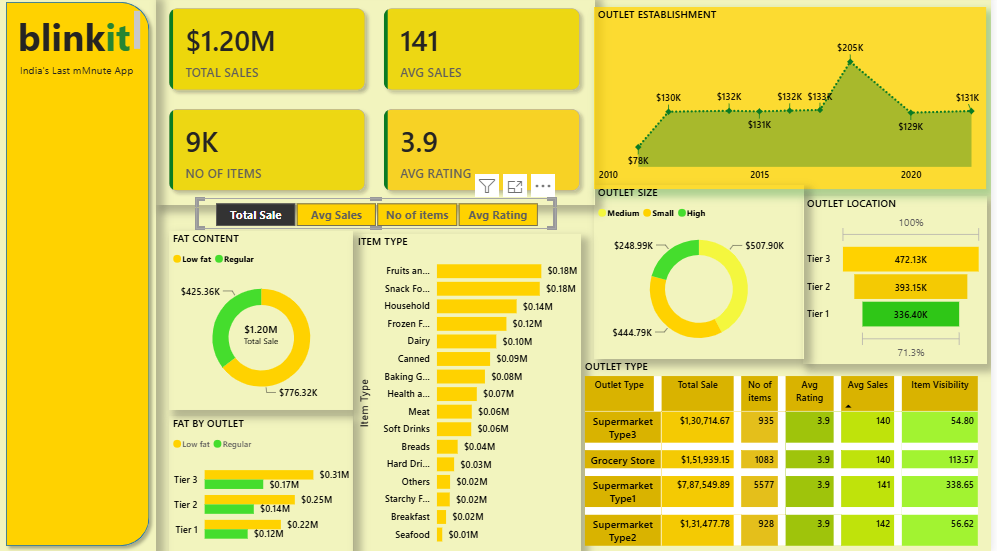

The page's visual inventory and layout, read from the dashboard file:
{"tool":"powerbi","page":{"name":"blinkit","canvas":[1280,720],"ordinal":0},"visuals":[{"type":"shape","box":[0,0,203,720],"z":0},{"type":"textbox","box":[11.5,82.1,177.1,28.8],"z":2000},{"type":"textbox","box":[14.4,15.8,172.8,66.2],"z":3000},{"type":"cardVisual","fields":{"Data":["BlinkIT Grocery Data.Total Sale","BlinkIT Grocery Data.Avg Sales","BlinkIT Grocery Data.No of items","BlinkIT Grocery Data.Avg Rating"]},"box":[203,0,565.9,270.7],"z":4000},{"type":"donutChart","title":" FAT CONTENT","fields":{"Y":["BlinkIT Grocery Data.Total Sale"],"Category":["BlinkIT Grocery Data.Item Fat Content"]},"box":[219.7,304.7,238.1,231],"z":6000},{"type":"slicer","fields":{"Values":["MATRICS.MATRICS"]},"box":[253.7,262.2,464.9,39.7],"z":7000},{"type":"cardVisual","fields":{"Data":["BlinkIT Grocery Data.Total Sale"]},"box":[292,408.2,93.5,60.9],"z":8000},{"type":"clusteredBarChart","title":"FAT BY OUTLET","fields":{"Y":["BlinkIT Grocery Data.Total Sale"],"Category":["BlinkIT Grocery Data.Outlet Location Type"],"Series":["BlinkIT Grocery Data.Item Fat Content"]},"box":[219.7,542.8,238.1,177.2],"z":9000},{"type":"barChart","title":"ITEM TYPE","fields":{"Y":["BlinkIT Grocery Data.Total Sale"],"Category":["BlinkIT Grocery Data.Item Type"]},"box":[457.8,309,293.4,411],"z":12000},{"type":"lineChart","title":"OUTLET ESTABLISHMENT ","fields":{"Category":["BlinkIT Grocery Data.Outlet Establishment Year"],"Y":["BlinkIT Grocery Data.Total Sale"]},"box":[768.2,15.6,506,235.3],"z":14000},{"type":"donutChart","title":"OUTLET SIZE","fields":{"Y":["BlinkIT Grocery Data.Total Sale"],"Category":["BlinkIT Grocery Data.Outlet Size"]},"box":[768.2,245.2,270.7,223.9],"z":16000},{"type":"funnel","title":"OUTLET LOCATION ","fields":{"Y":["Sum(BlinkIT Grocery Data.Sales)"],"Category":["BlinkIT Grocery Data.Outlet Location Type"]},"box":[1037.5,259.4,236.7,216.9],"z":18000},{"type":"pivotTable","title":"OUTLET TYPE","fields":{"Rows":["BlinkIT Grocery Data.Outlet Type"],"Values":["BlinkIT Grocery Data.Total Sale","BlinkIT Grocery Data.No of items","BlinkIT Grocery Data.Avg Rating","BlinkIT Grocery Data.Avg Sales","Sum(BlinkIT Grocery Data.Item Visibility)"]},"box":[751.2,469.1,528.7,250.9],"z":20000}]}

Visuals, with their boxes in screenshot pixels (x1, y1, x2, y2), scaled from the page's 1280x720 canvas onto the 997x551 screenshot:
shape: detection(0, 0, 158, 550)
textbox: detection(9, 63, 147, 85)
textbox: detection(11, 12, 146, 63)
cardVisual - BlinkIT Grocery Data.Total Sale x BlinkIT Grocery Data.Avg Sales: detection(158, 0, 599, 207)
" FAT CONTENT" donutChart: detection(171, 233, 357, 410)
slicer - MATRICS.MATRICS: detection(198, 201, 560, 231)
cardVisual - BlinkIT Grocery Data.Total Sale: detection(227, 312, 300, 359)
"FAT BY OUTLET" clusteredBarChart: detection(171, 415, 357, 550)
"ITEM TYPE" barChart: detection(357, 236, 585, 550)
"OUTLET ESTABLISHMENT " lineChart: detection(598, 12, 992, 192)
"OUTLET SIZE" donutChart: detection(598, 188, 809, 359)
"OUTLET LOCATION " funnel: detection(808, 199, 992, 365)
"OUTLET TYPE" pivotTable: detection(585, 359, 996, 550)
